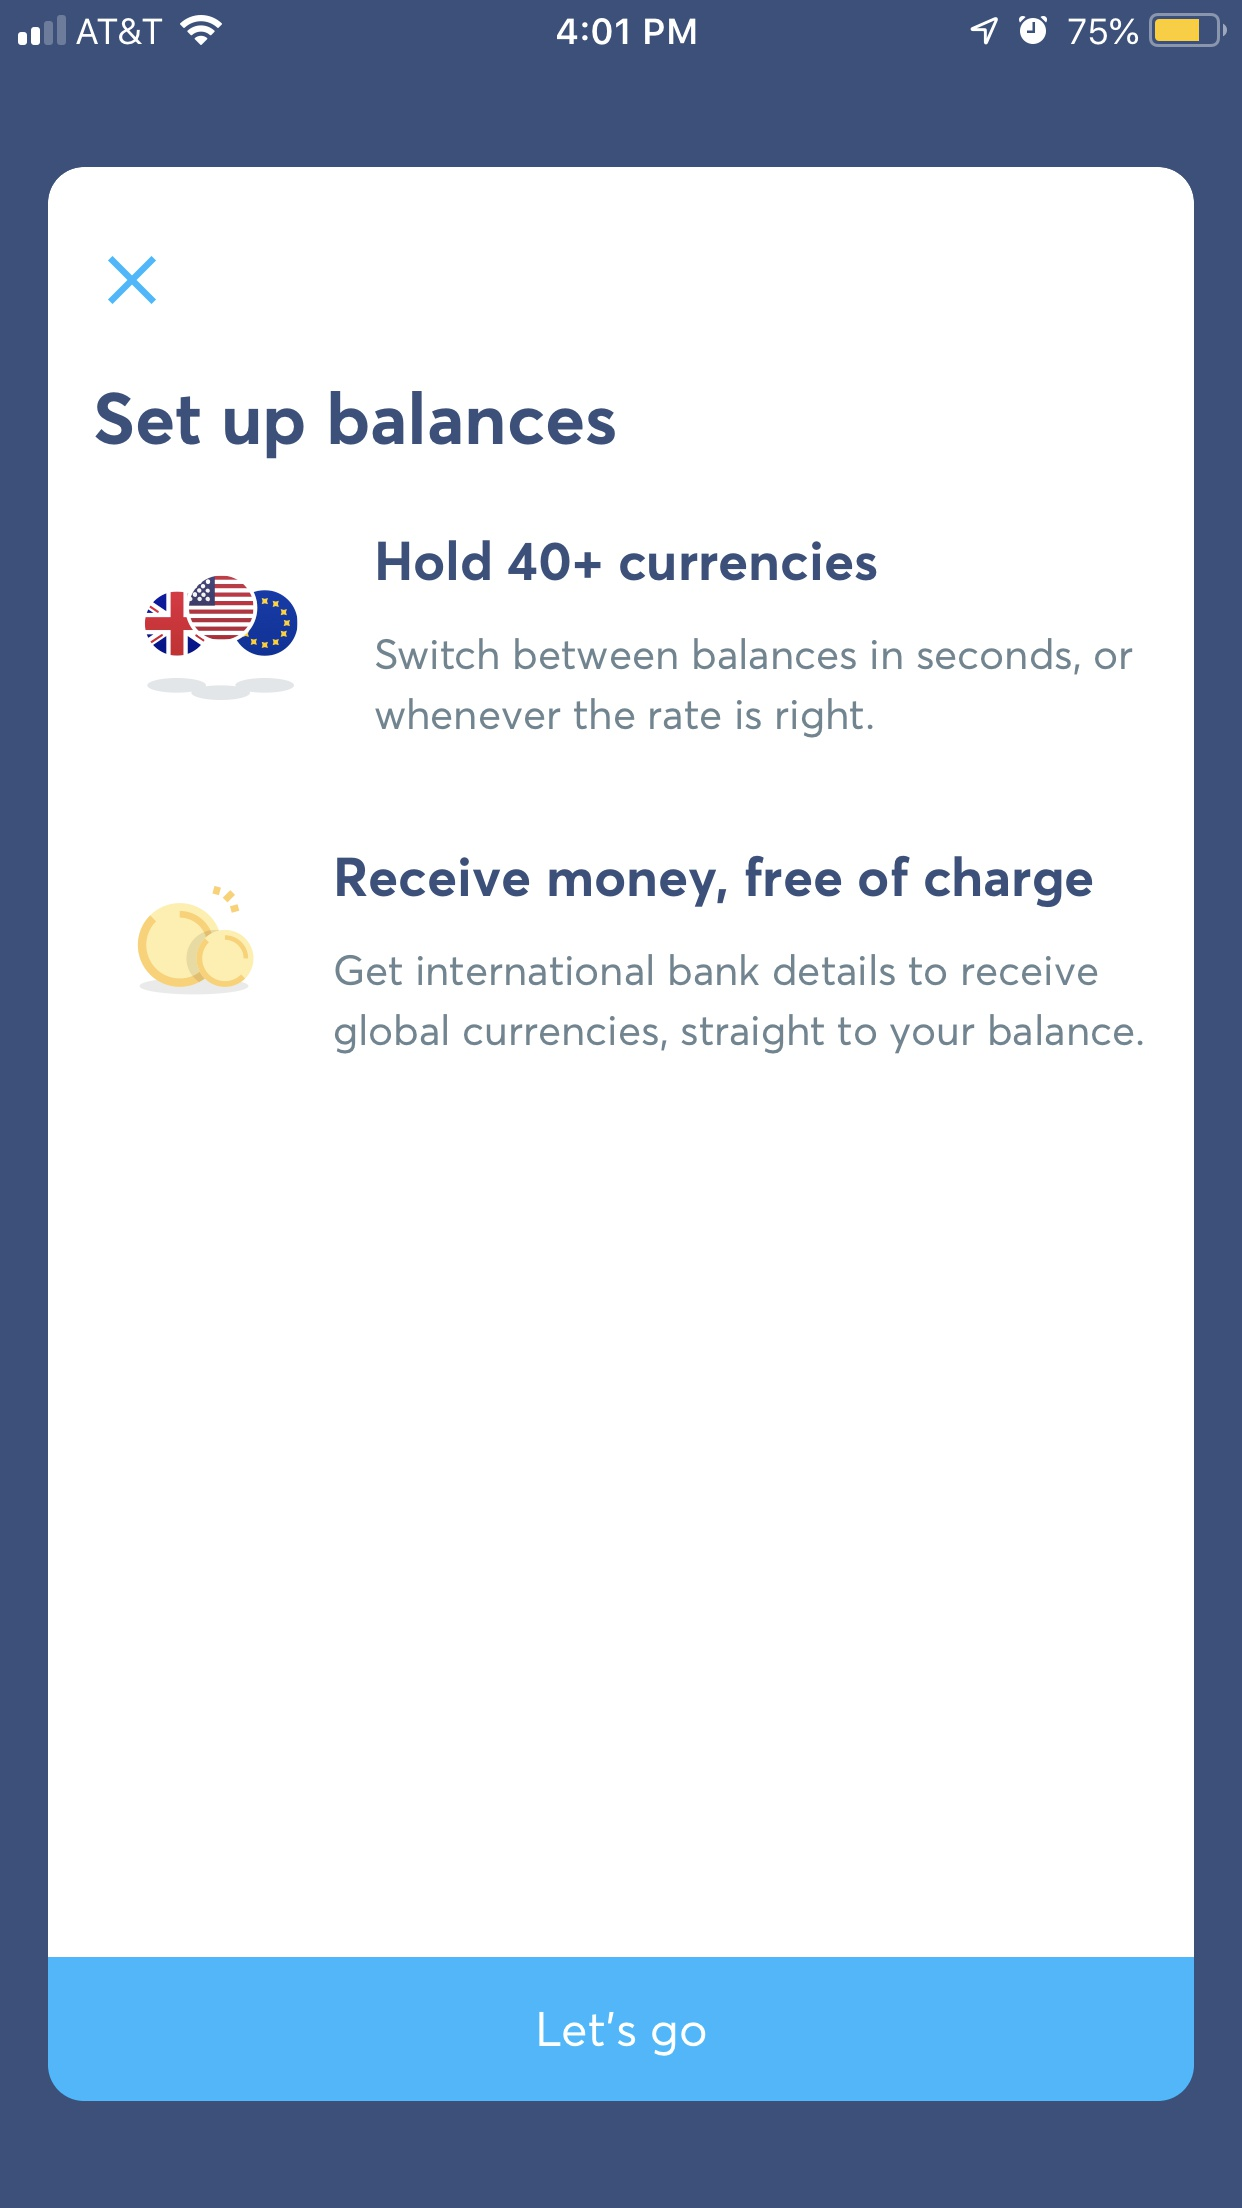Icon: (108, 256, 158, 306)
Image: (146, 575, 299, 702), (136, 886, 255, 996)
Text: (335, 954, 1143, 1055), (375, 638, 1133, 739), (337, 855, 1093, 908), (96, 391, 616, 459), (378, 538, 878, 582)
TextButton: (49, 1956, 1195, 2102)
UpperTaskBar: (2, 2, 1242, 49)
